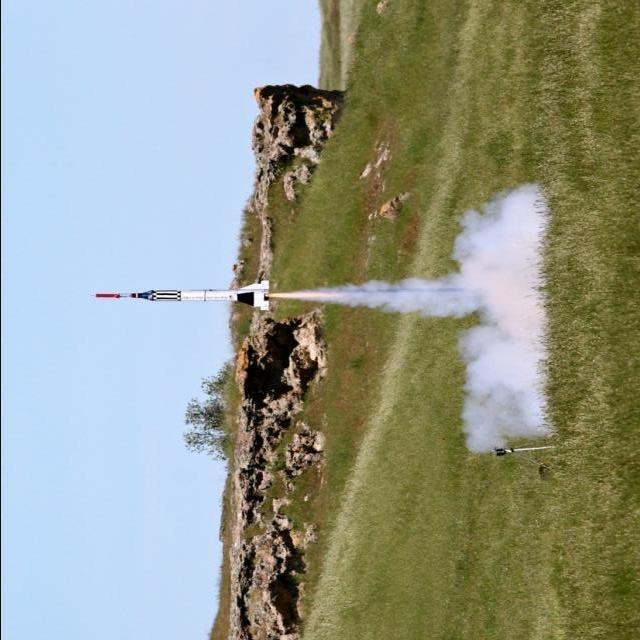missile: (92, 278, 268, 316)
